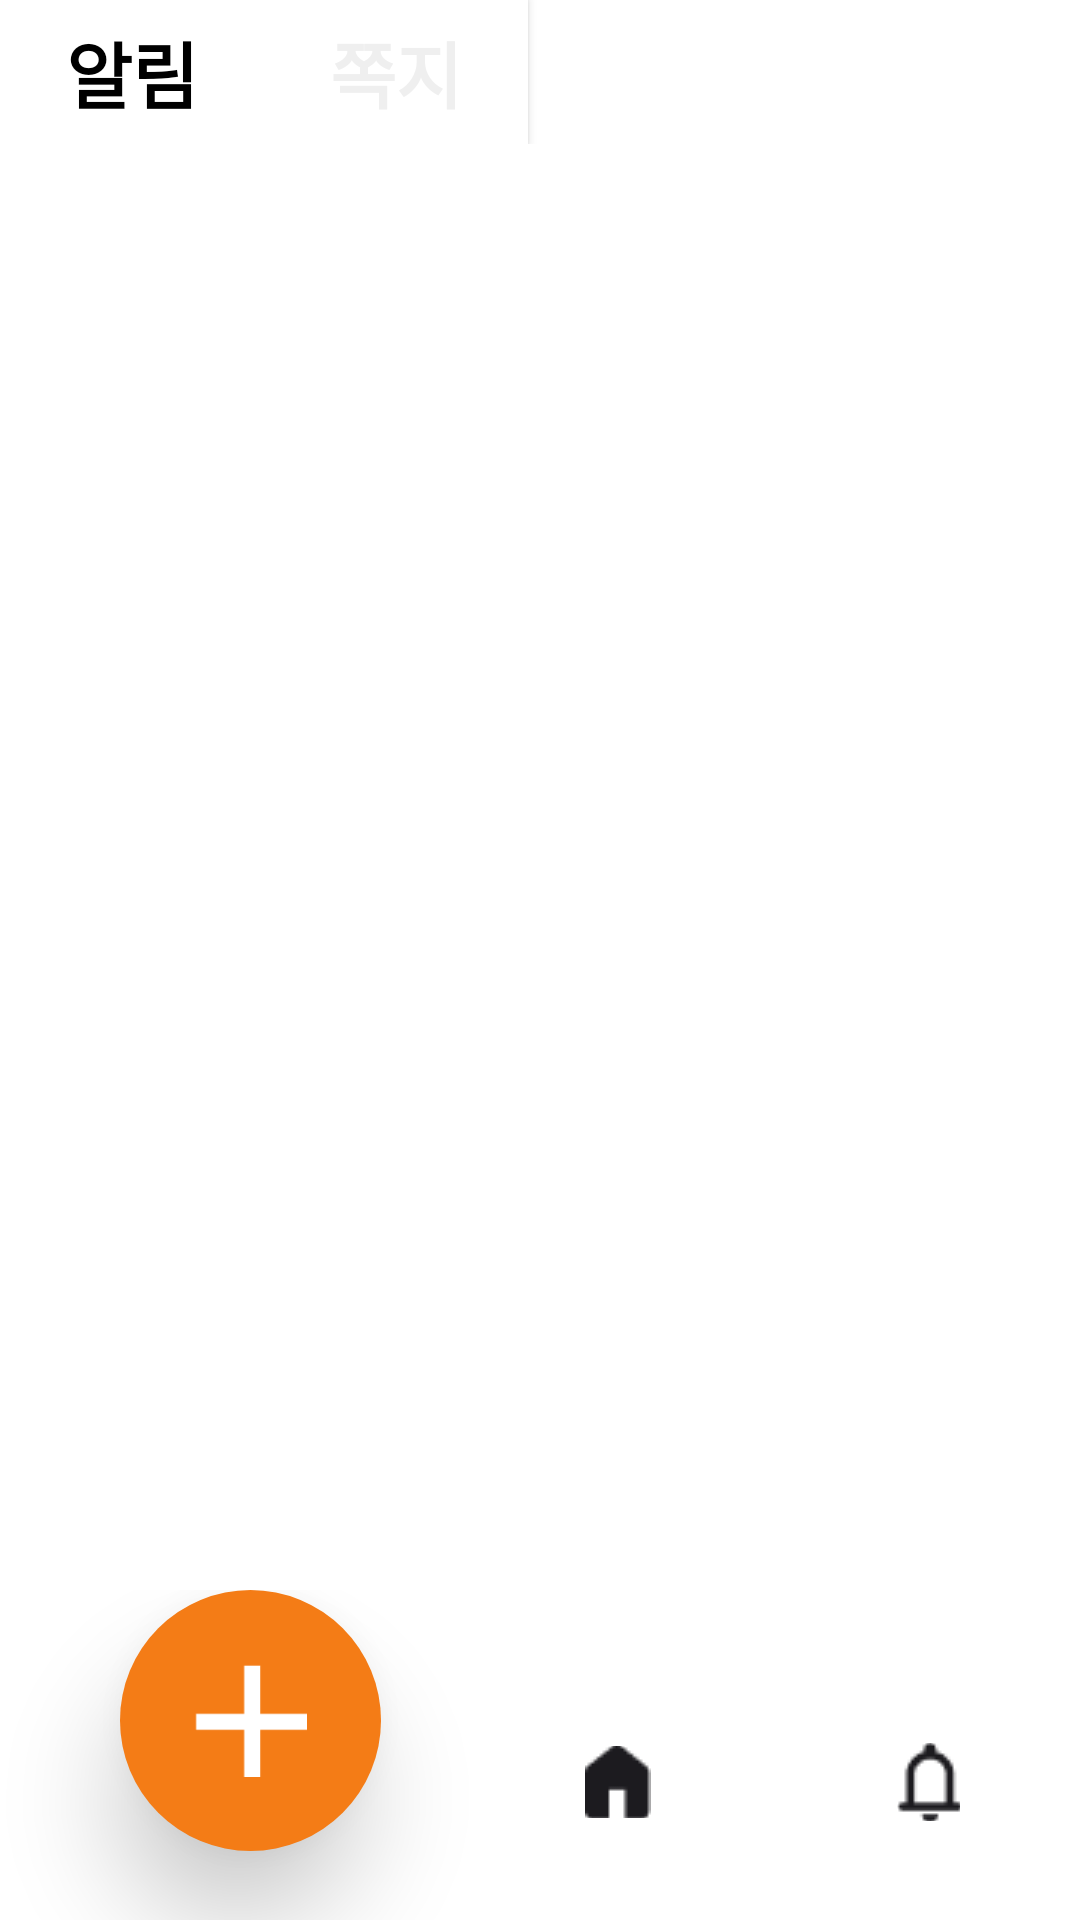

Point at icon controls on the screen. Image size 1080x1920, points as (x=x, y=y).
add: (x=250, y=1720)
home: (x=618, y=1782)
notifications: (x=928, y=1782)
